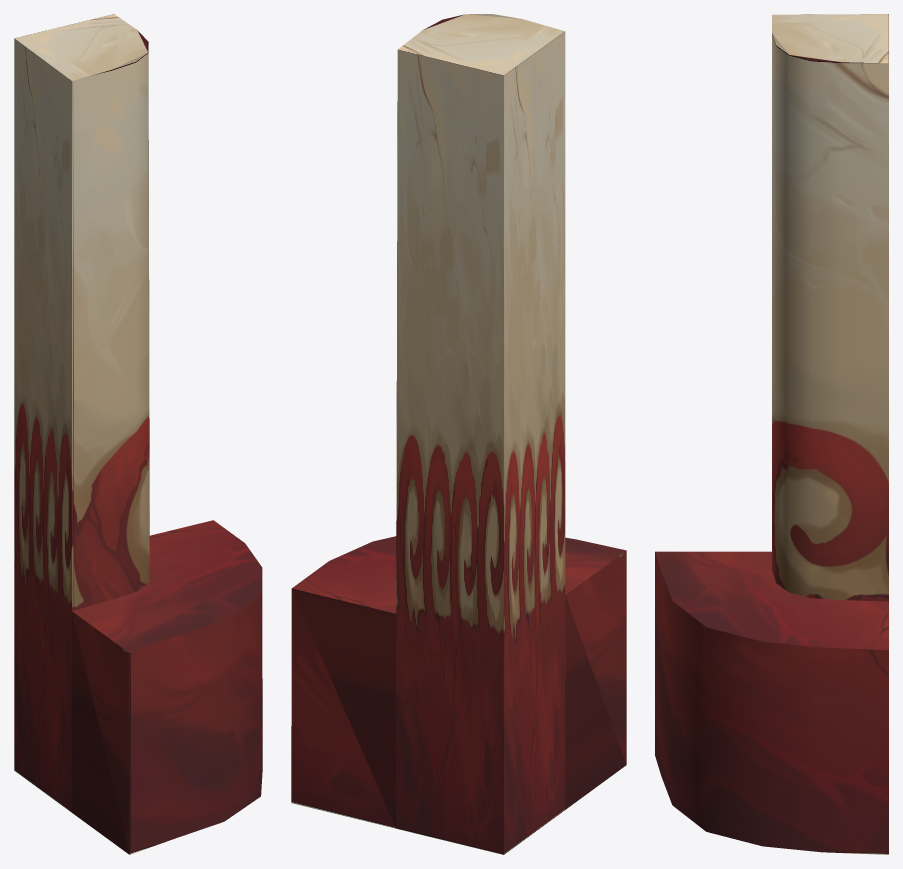
The model's file is cote.fbx.
3 renders of one model, left to right at view 1: azimuth 30°, elevation 25°; view 2: azimuth 150°, elevation 25°; view 3: azimuth 270°, elevation 25°, orthographic. The views are drawn at different scales.
Visible parts, largest first — view 1: Box013; view 2: Box013; view 3: Box013.
Part boxes in pixels (x1,y1,x2,y2): Box013: (14,14,262,854); Box013: (291,14,626,854); Box013: (655,14,888,854).
Bounding box in the file's own units: 500 × 1754 × 500.
